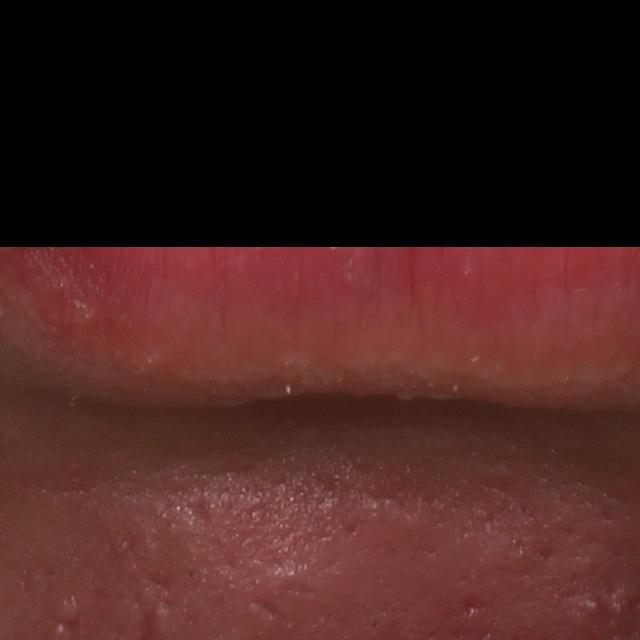hypertrophic_scar: (149, 601, 178, 638), (48, 594, 79, 622)
